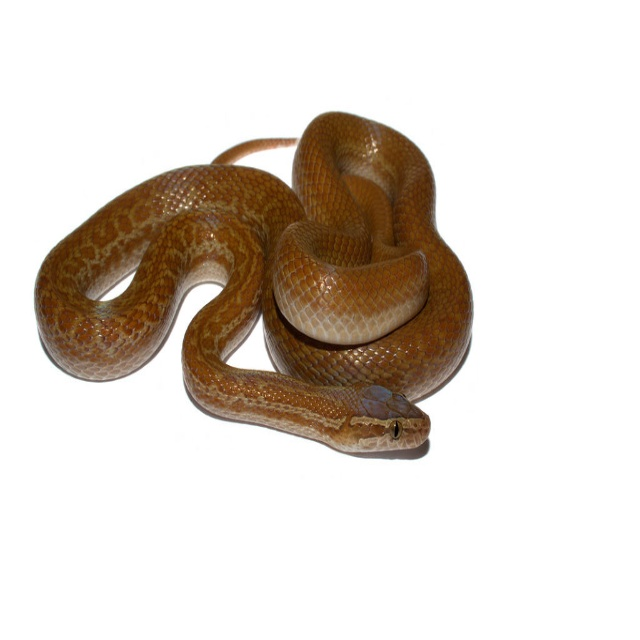Snake: (30, 111, 472, 454)
